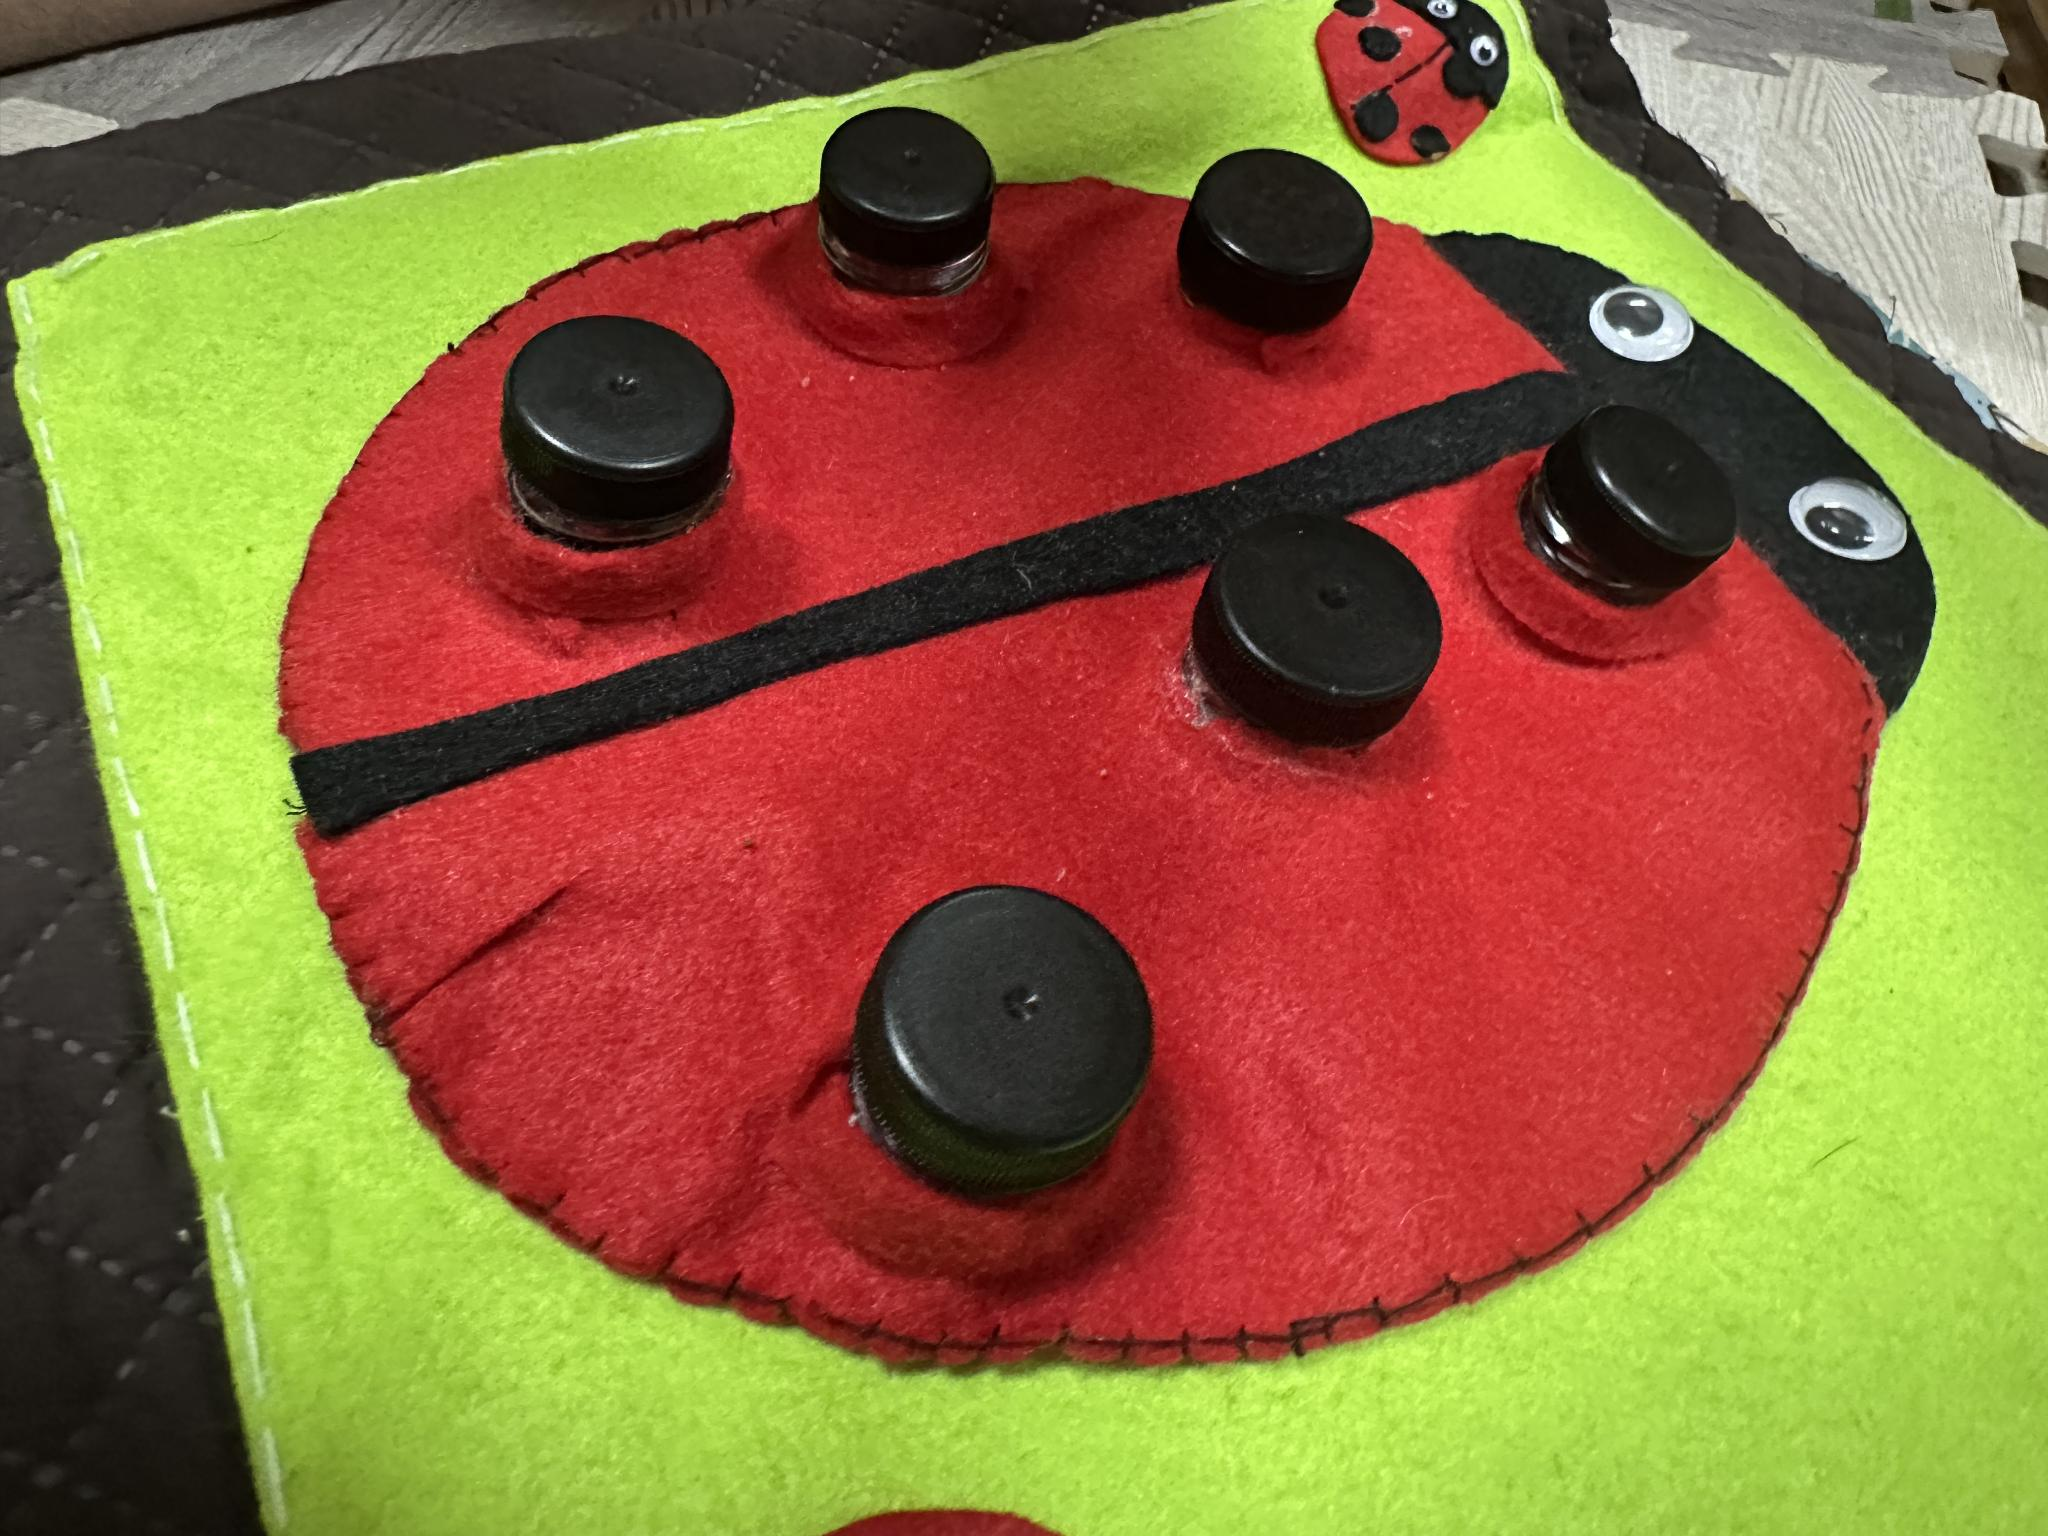cap_ng: (468, 298, 734, 620), (1500, 389, 1777, 655), (798, 97, 1034, 384)
cap_ok: (827, 854, 1184, 1294), (1166, 508, 1479, 783), (1169, 126, 1387, 374)
